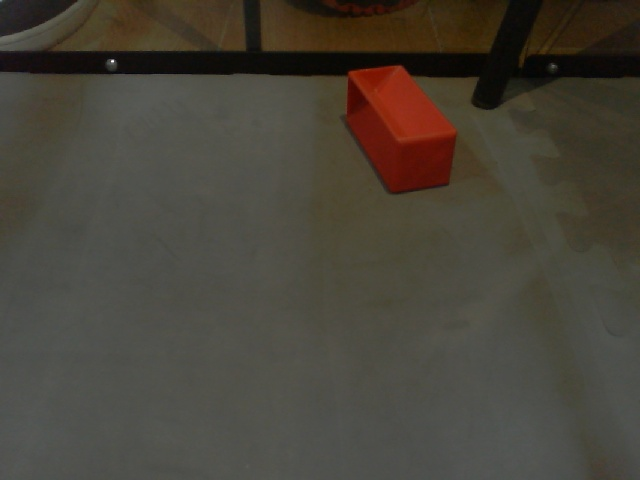RedSample: (341, 59, 461, 199)
